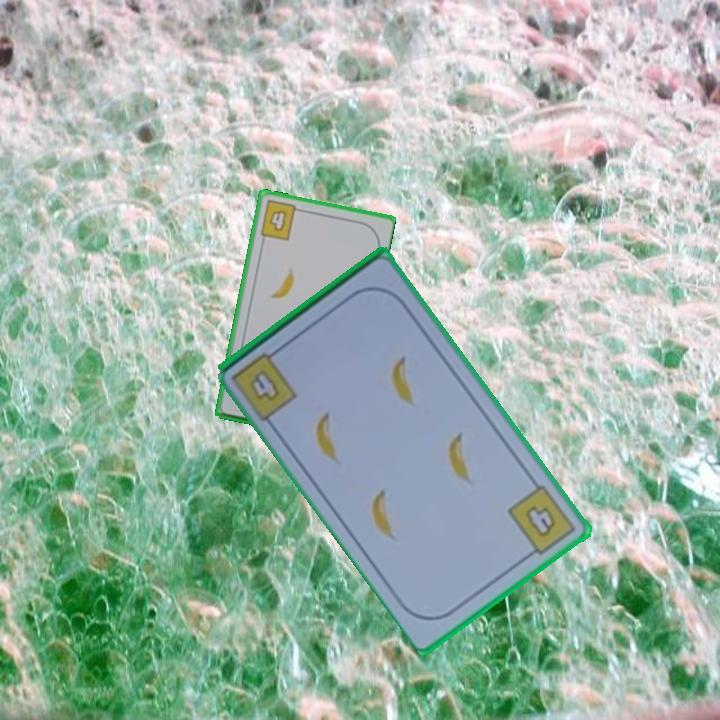4b: (504, 481, 579, 562), (257, 197, 305, 243), (246, 366, 284, 405)
